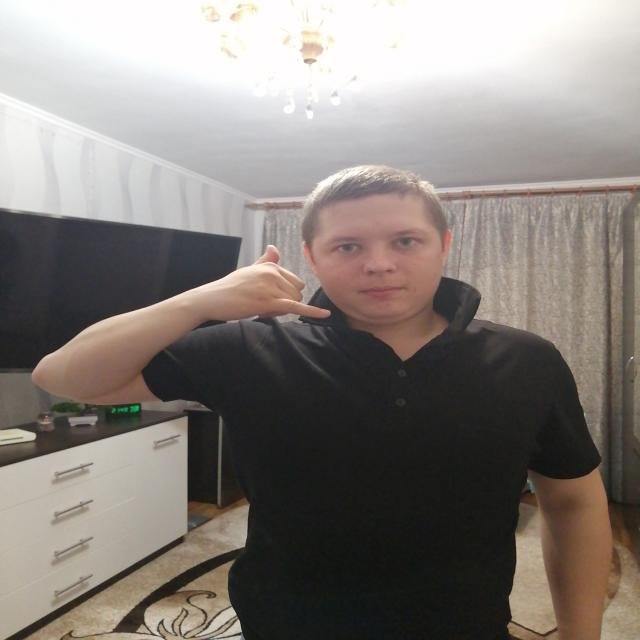call: (203, 243, 334, 324)
